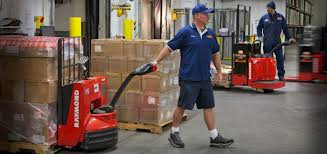Pallet Jack: (22, 36, 158, 152), (216, 40, 294, 94)
